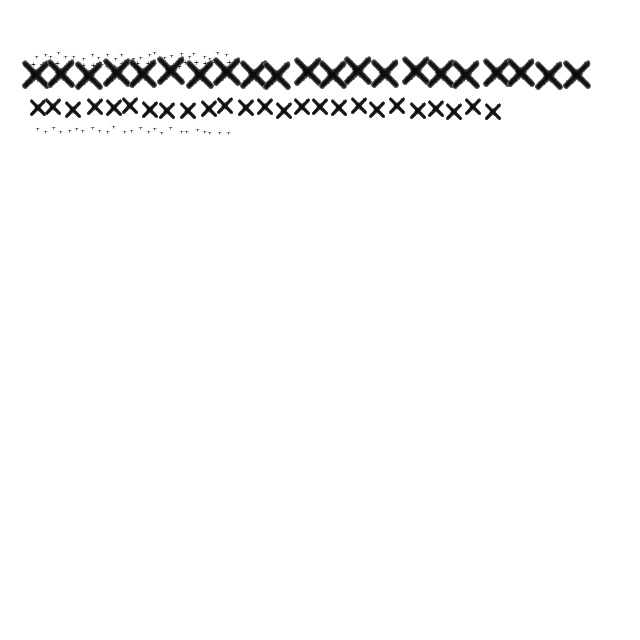double: (44, 54, 78, 92), (72, 56, 106, 94), (126, 54, 160, 92), (210, 52, 244, 90), (260, 56, 294, 94), (291, 52, 325, 90), (368, 54, 402, 92), (424, 54, 458, 92), (532, 56, 566, 94), (19, 56, 53, 92), (100, 54, 134, 90), (154, 52, 188, 88), (183, 56, 217, 92), (237, 56, 271, 92), (316, 56, 350, 92), (341, 52, 375, 88), (399, 52, 433, 88), (449, 56, 483, 92), (480, 54, 514, 90), (504, 54, 538, 90), (560, 56, 594, 92), (28, 96, 48, 118), (43, 95, 63, 117), (63, 98, 83, 120), (85, 95, 105, 117), (104, 96, 124, 118), (120, 94, 140, 116), (140, 98, 160, 120), (157, 99, 177, 121), (178, 99, 198, 121), (199, 97, 219, 119), (215, 94, 235, 116), (236, 96, 256, 118), (255, 95, 275, 117), (274, 99, 294, 121), (292, 95, 312, 117), (310, 95, 330, 117), (329, 96, 349, 118), (349, 94, 369, 116), (367, 98, 387, 120), (387, 94, 407, 116), (408, 99, 428, 121), (426, 97, 446, 119), (444, 100, 464, 122), (463, 95, 483, 117), (483, 100, 503, 122), (34, 54, 40, 60), (48, 54, 54, 60), (56, 50, 62, 56), (90, 52, 96, 58), (152, 50, 158, 56), (202, 54, 208, 60), (224, 52, 230, 58), (40, 62, 46, 68), (112, 64, 118, 70), (130, 58, 136, 64), (194, 60, 200, 66), (210, 60, 216, 66), (74, 126, 80, 132), (80, 128, 86, 134), (152, 126, 158, 132), (226, 130, 232, 136), (44, 52, 48, 58), (64, 54, 68, 60), (72, 54, 76, 60), (82, 56, 86, 62), (96, 56, 102, 60), (106, 52, 110, 58), (114, 56, 118, 62), (120, 52, 124, 58), (132, 56, 136, 62), (138, 56, 144, 60), (148, 52, 152, 58), (162, 56, 168, 60), (188, 54, 192, 60), (208, 56, 212, 62), (216, 50, 220, 56), (32, 62, 36, 68), (48, 62, 52, 68), (64, 64, 70, 68), (100, 62, 104, 68), (106, 64, 110, 70), (120, 62, 126, 66), (146, 62, 152, 66), (152, 62, 158, 66), (164, 60, 168, 66), (178, 64, 182, 70), (184, 60, 188, 66), (228, 60, 232, 66), (36, 126, 40, 132), (58, 130, 64, 134), (68, 128, 72, 134), (90, 126, 96, 130), (98, 128, 102, 134), (112, 124, 116, 130), (122, 130, 128, 134), (130, 128, 134, 134), (138, 126, 144, 130), (146, 130, 152, 134), (160, 130, 164, 136), (168, 126, 174, 130), (184, 130, 190, 134), (202, 130, 208, 134), (208, 130, 212, 136), (218, 130, 222, 136), (170, 54, 174, 58), (180, 52, 184, 56), (192, 52, 196, 56), (56, 62, 60, 66), (76, 64, 80, 68), (82, 64, 86, 68), (92, 64, 96, 68), (136, 62, 140, 66), (172, 64, 176, 68), (204, 62, 208, 66), (220, 64, 224, 68), (44, 130, 48, 134), (52, 126, 56, 130), (106, 130, 110, 134), (180, 130, 184, 134), (196, 128, 200, 132)
